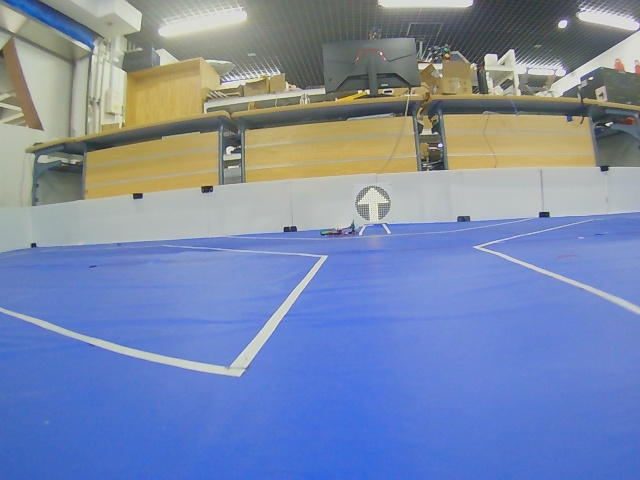straight_yellow: (358, 187, 389, 221)
